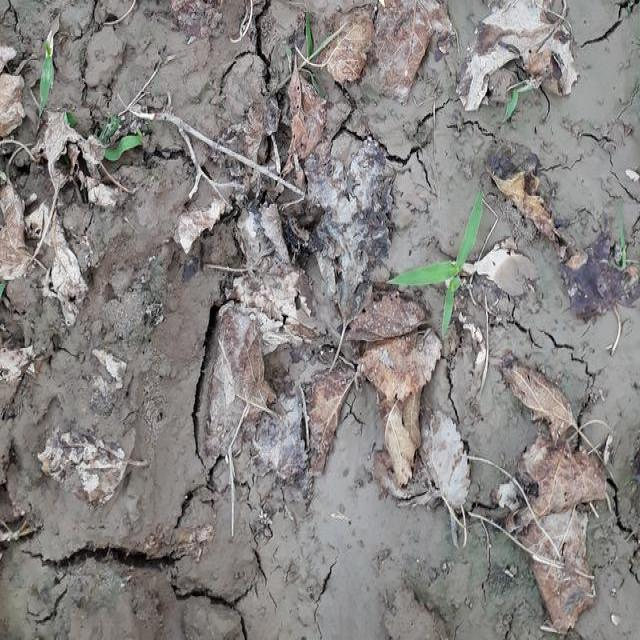weed: (386, 192, 498, 336)
